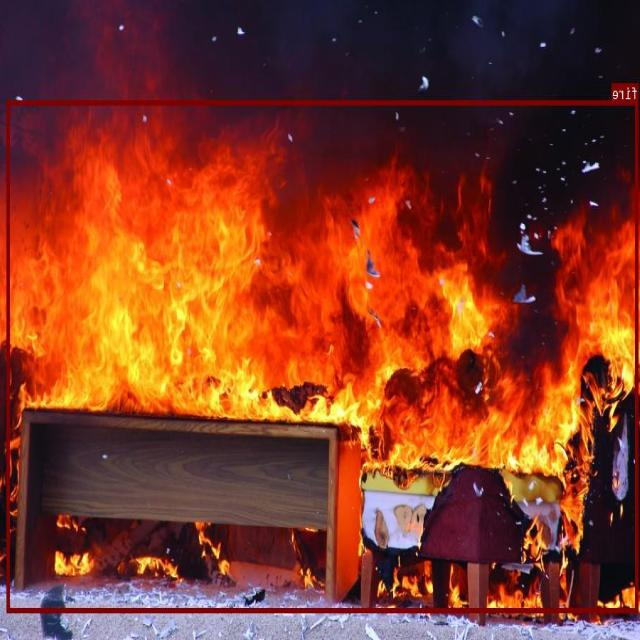fire: (7, 99, 639, 612)
